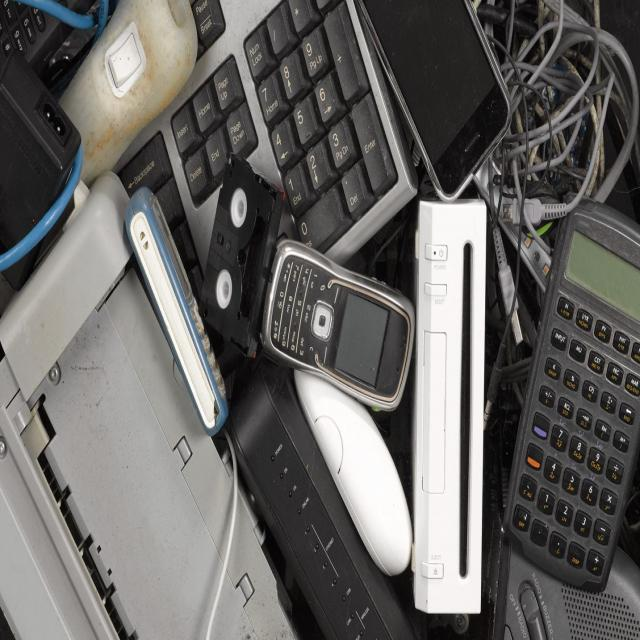hazard: (0, 8, 640, 632)
